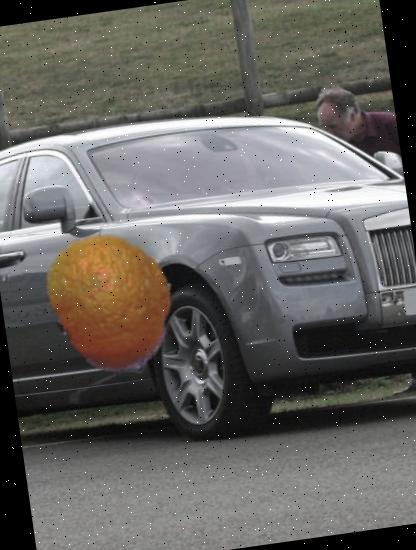Mandarine: (31, 220, 194, 383)
